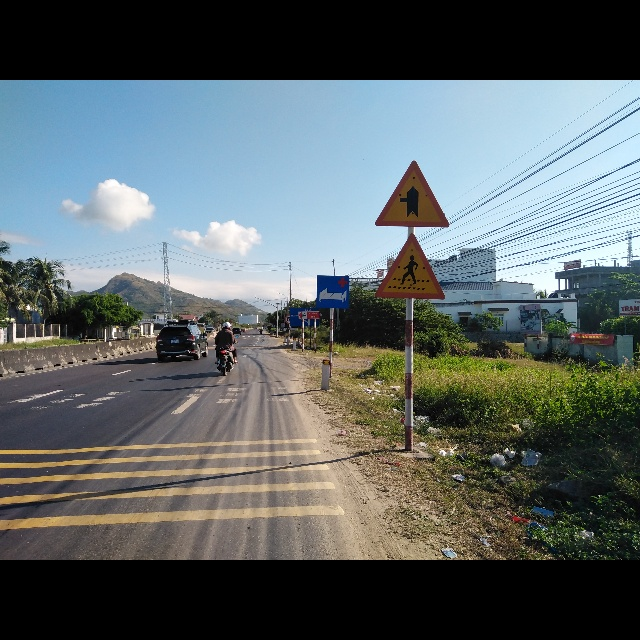Bệnh viện: (317, 275, 350, 310)
Giao nhau với đường không ưu tiên: (372, 158, 447, 227)
Đường người đi bộ sang đường: (374, 233, 448, 298)
